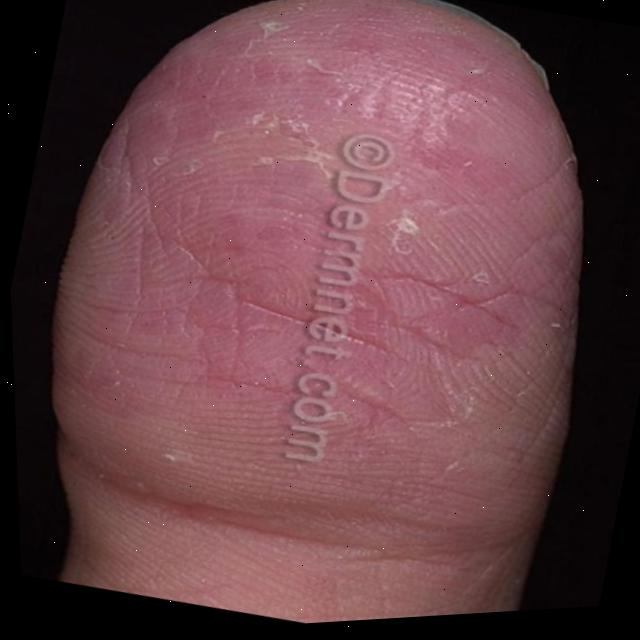Eczema: (80, 0, 605, 560)
